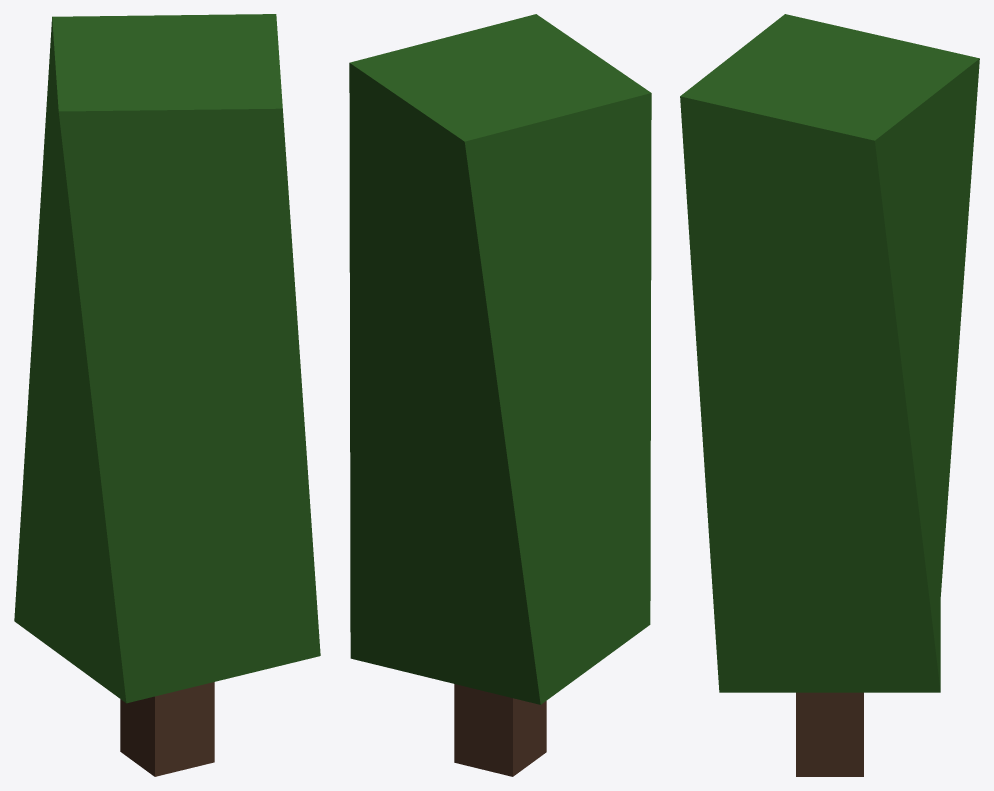
File: basic.glb
The picture shows the model from 3 angles, left to right: view 1: azimuth 30°, elevation 25°; view 2: azimuth 150°, elevation 25°; view 3: azimuth 270°, elevation 25°; orthographic projection. The views are drawn at different scales.
Parts seen in each view (by area): view 1: Cube.001, Cube; view 2: Cube.001, Cube; view 3: Cube.001, Cube.
Boxes of the visible parts, box(x1,y1,x2,y2) form: Cube.001: box(14, 14, 320, 703); Cube: box(120, 682, 214, 776); Cube.001: box(349, 14, 651, 704); Cube: box(454, 684, 546, 776); Cube.001: box(680, 14, 979, 692); Cube: box(796, 692, 863, 776).
Bounding box in the file's own units: 0.2992 × 0.7543 × 0.2992.
